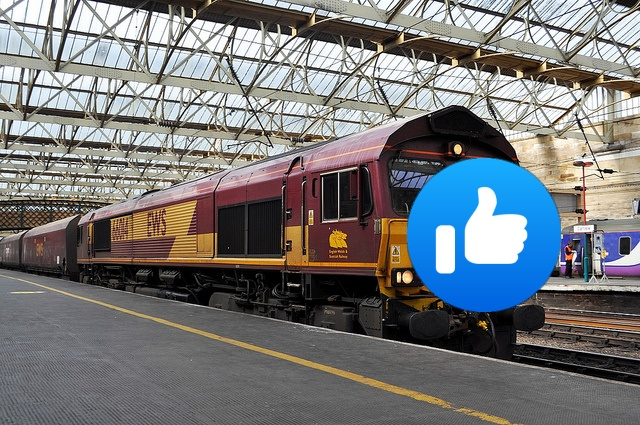like: (407, 158, 561, 312)
